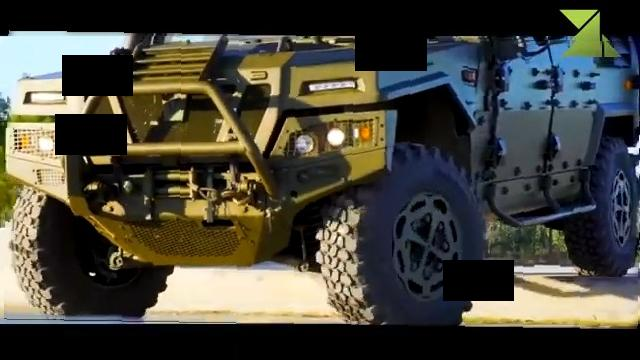MIL_HMMWV: (5, 33, 640, 328)
